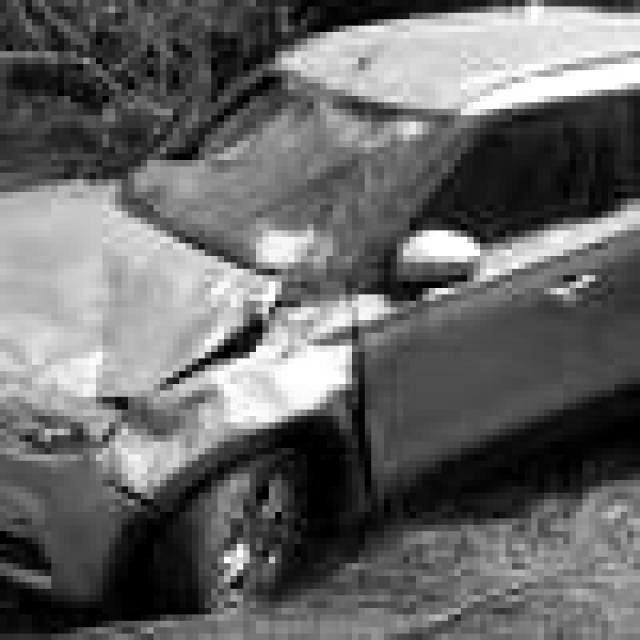Front-windscreen-damage: (135, 51, 448, 275)
bonnet-dent: (0, 186, 268, 384)
fender-dent: (135, 302, 359, 539)
